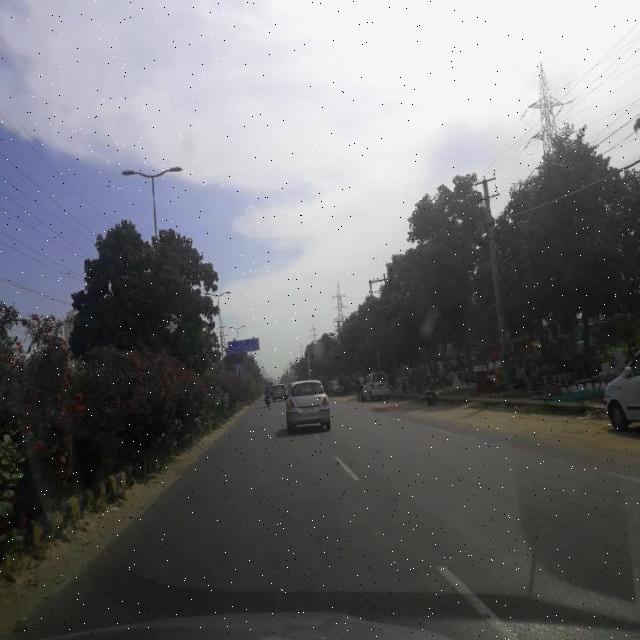D20: (86, 474, 632, 618)
D44: (393, 416, 615, 469)
